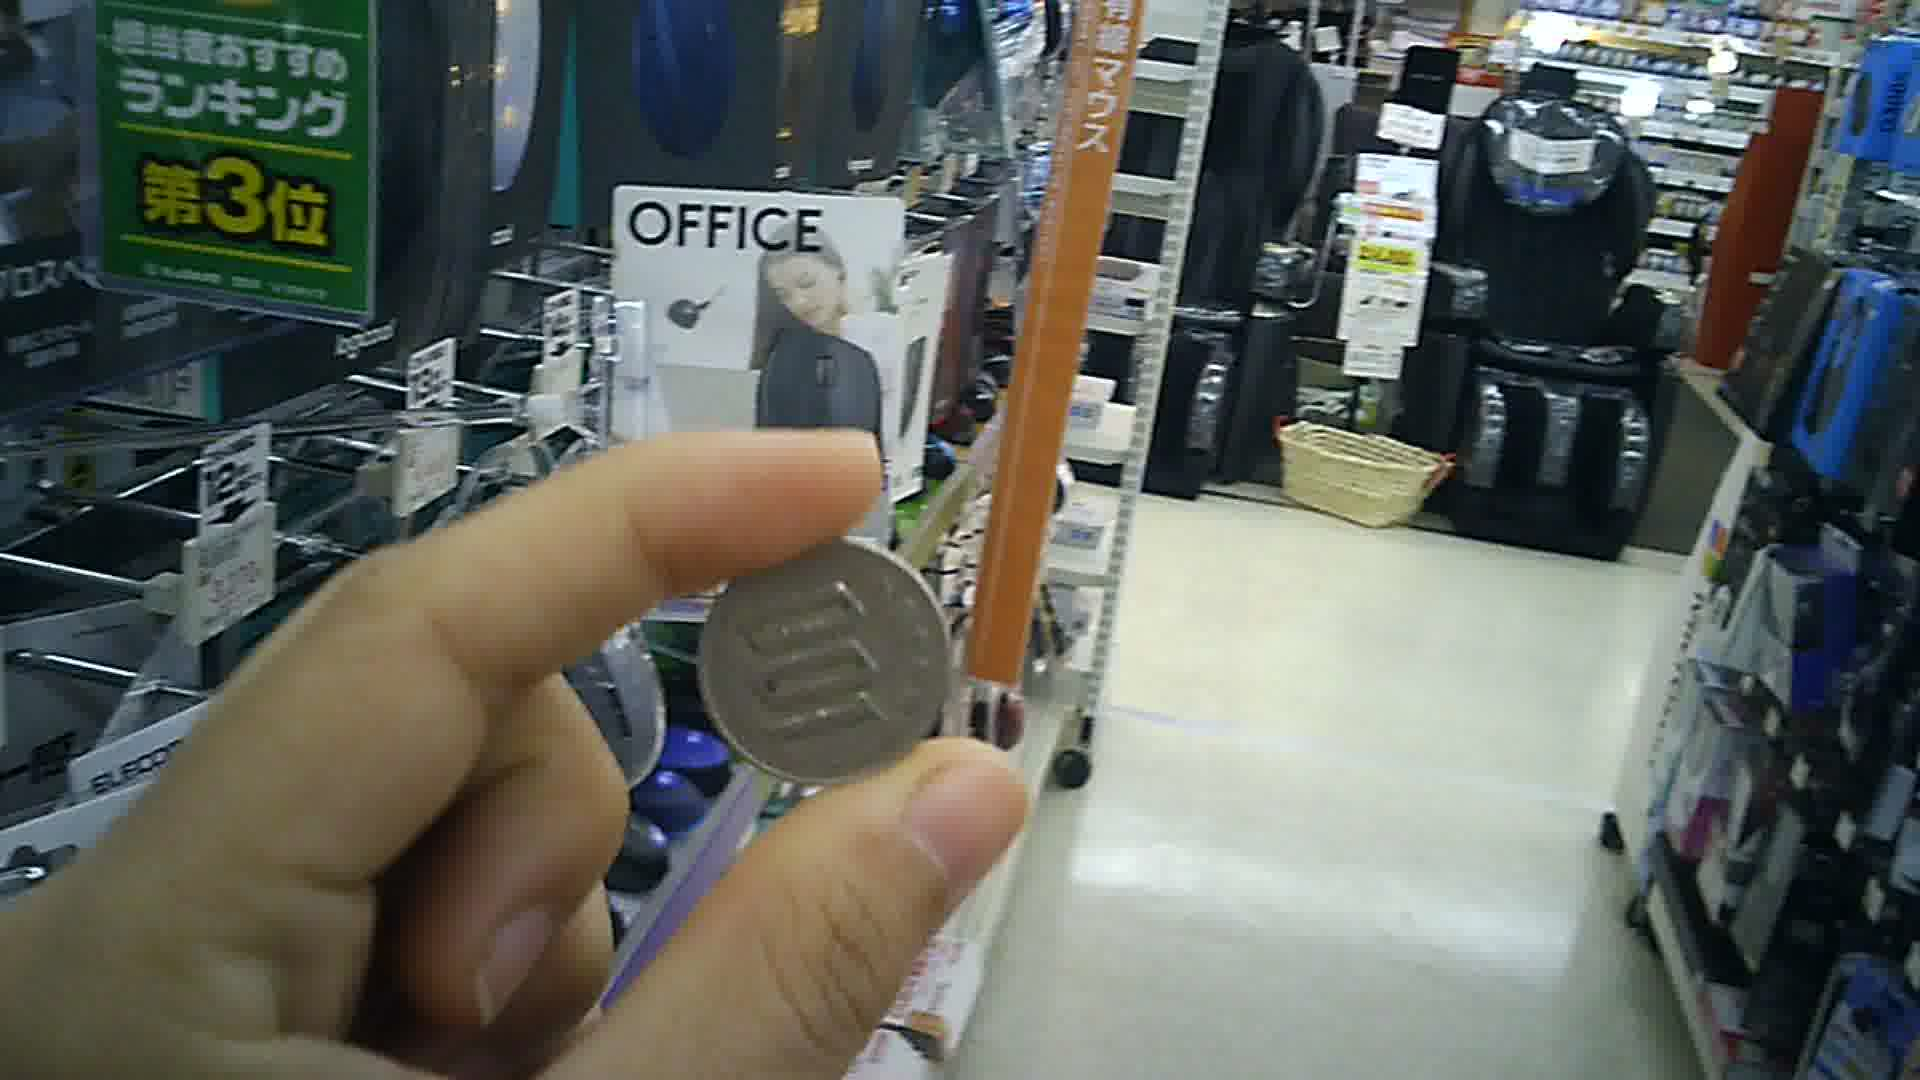100 Yen: (691, 525, 963, 793)
